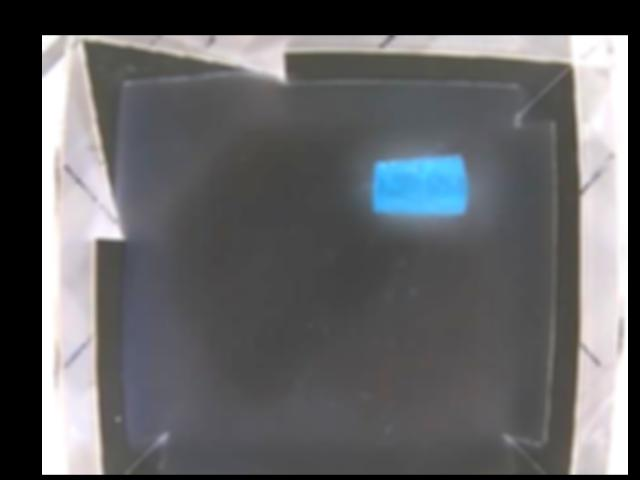Carrot: (371, 153, 468, 215)
